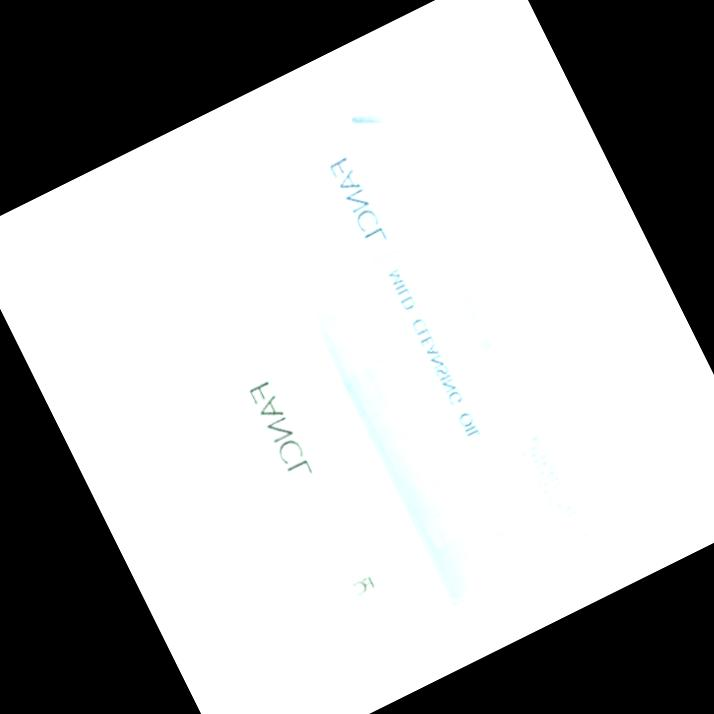cosmetic: (119, 195, 444, 664)
